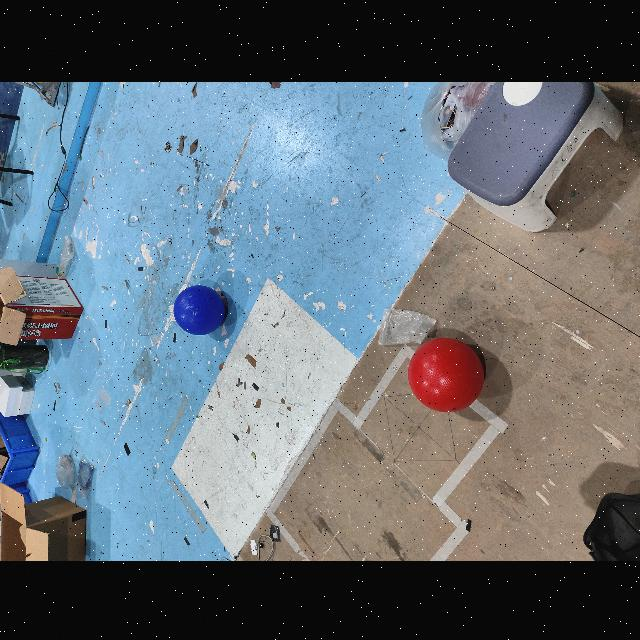B: (173, 284, 227, 334)
R: (408, 334, 484, 411)
